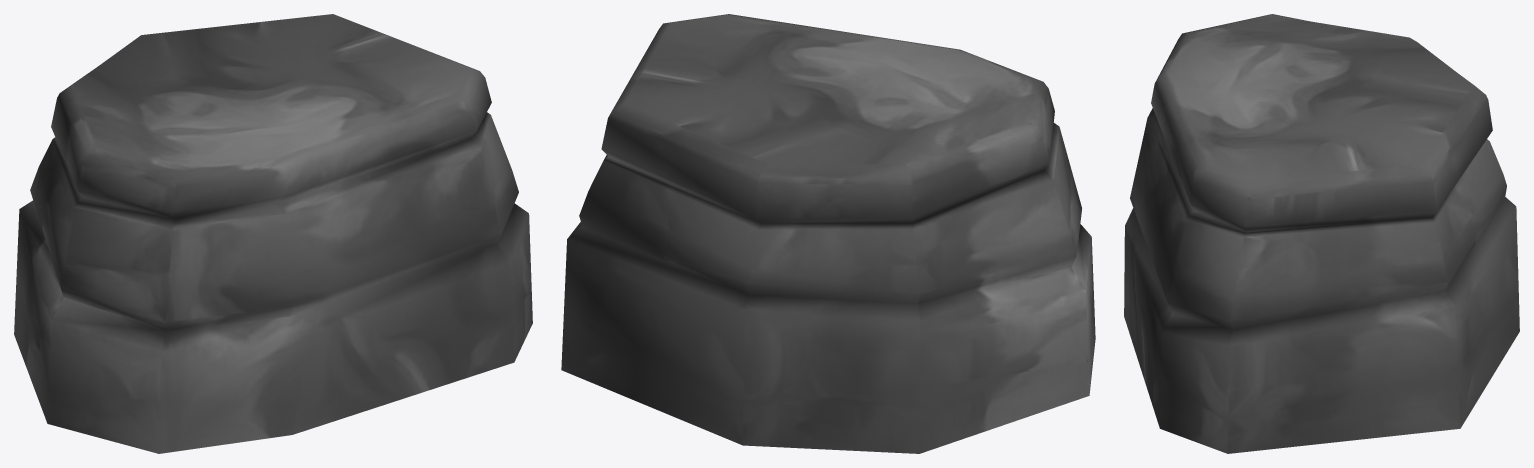
The model's file is roca2.fbx.
The picture shows the model from 3 angles, left to right: view 1: azimuth 30°, elevation 25°; view 2: azimuth 150°, elevation 25°; view 3: azimuth 270°, elevation 25°; orthographic projection. The views are drawn at different scales.
Parts seen in each view (by area): view 1: sm_roca_2; view 2: sm_roca_2; view 3: sm_roca_2.
Part boxes in pixels (left/top/right/bottom): sm_roca_2: left=14, top=14, right=532, bottom=453; sm_roca_2: left=561, top=14, right=1095, bottom=453; sm_roca_2: left=1124, top=14, right=1519, bottom=453.
Bounding box in the file's own units: 470 × 248 × 361.
Materials: 1 (1 with a texture image).
